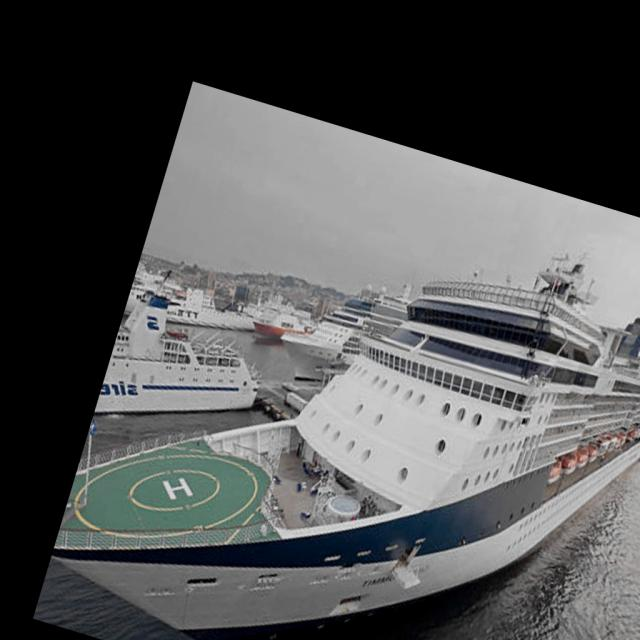helipad: (125, 465, 222, 514)
